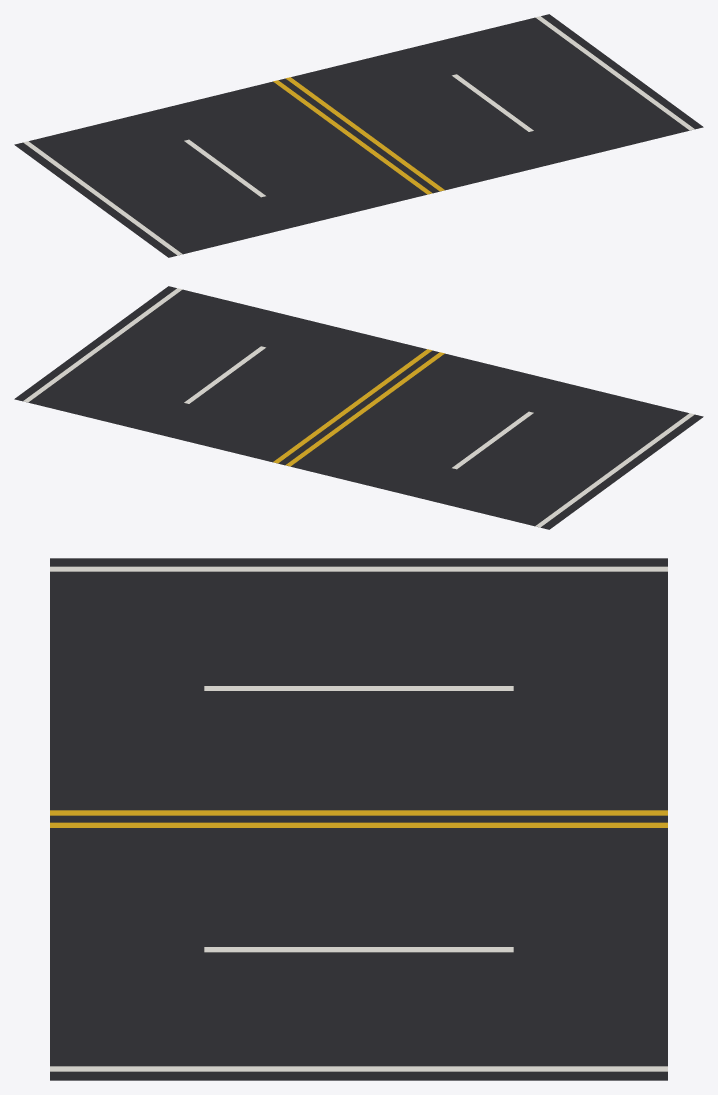
The model's file is road_main_seg.glb.
The picture shows the model from 3 angles, top to bottom: view 1: azimuth 30°, elevation 25°; view 2: azimuth 150°, elevation 25°; view 3: azimuth 270°, elevation 25°; orthographic projection. The views are drawn at different scales.
Parts seen in each view (by area): view 1: road_main_seg; view 2: road_main_seg; view 3: road_main_seg.
Part boxes in pixels (box(x1,y1,x2,y2)): road_main_seg: box(14, 14, 703, 257); road_main_seg: box(14, 286, 703, 529); road_main_seg: box(50, 558, 667, 1080).
Size of the model in its own units: 12 by 0.004 by 6.
